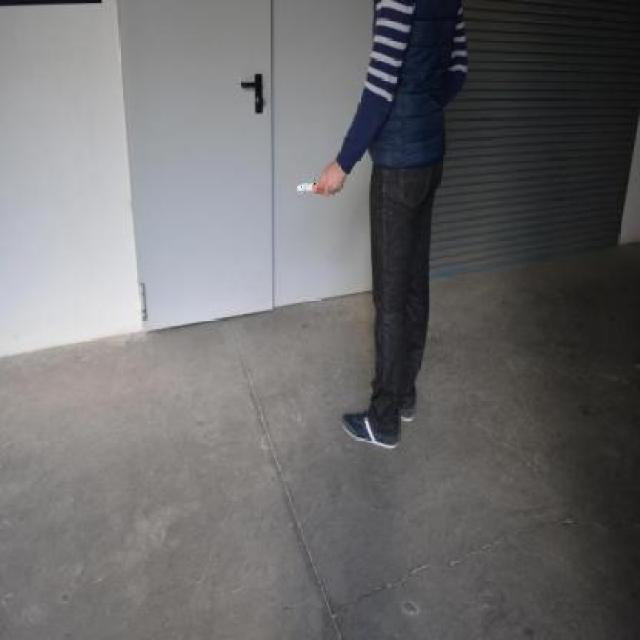knife: (298, 183, 322, 194)
